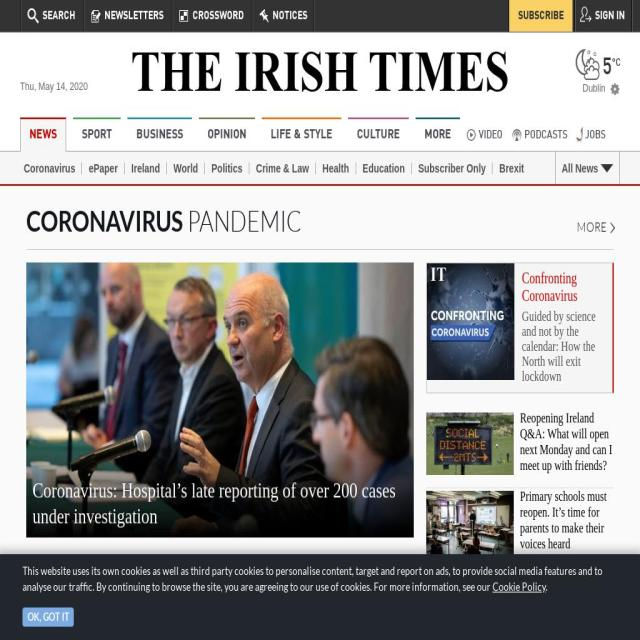button: (26, 262, 413, 538), (25, 566, 213, 640), (225, 566, 413, 640), (426, 488, 614, 557), (426, 570, 614, 638), (426, 410, 614, 475), (516, 264, 612, 384), (84, 0, 170, 32), (261, 119, 341, 152), (172, 0, 250, 32), (127, 119, 192, 152), (554, 152, 620, 184), (508, 0, 572, 32), (251, 0, 314, 32), (20, 0, 82, 32), (348, 119, 408, 152), (512, 119, 572, 152), (198, 119, 255, 152), (574, 0, 631, 32), (72, 119, 120, 152), (20, 119, 66, 152), (415, 119, 460, 152), (466, 119, 507, 152), (518, 52, 565, 76), (22, 608, 74, 626), (583, 119, 610, 152), (418, 163, 493, 174), (577, 216, 614, 236), (23, 163, 83, 174), (256, 163, 316, 174), (362, 163, 412, 174), (211, 163, 250, 174), (88, 163, 125, 174), (131, 163, 167, 174), (322, 163, 356, 174), (173, 163, 205, 174), (498, 163, 530, 174)
heading: (26, 202, 183, 238), (182, 202, 302, 238)
image: (26, 262, 413, 538), (25, 566, 213, 640), (225, 566, 413, 640), (426, 263, 514, 380), (426, 491, 514, 557), (426, 572, 514, 638), (426, 413, 514, 475), (574, 49, 596, 81), (582, 58, 600, 84), (27, 8, 39, 24), (259, 8, 269, 24), (610, 83, 621, 97), (90, 9, 100, 23), (179, 9, 189, 23), (466, 128, 476, 141), (512, 128, 521, 141), (432, 621, 439, 632)
link: (492, 579, 546, 593)
text: (26, 436, 413, 537), (22, 564, 602, 594), (25, 585, 214, 640), (225, 585, 414, 640), (516, 309, 612, 384), (520, 411, 612, 472), (519, 489, 607, 551), (520, 571, 608, 617), (516, 263, 612, 305), (19, 80, 122, 92), (104, 7, 164, 26), (192, 7, 244, 26), (581, 7, 625, 26), (272, 7, 307, 26), (42, 7, 76, 26), (524, 129, 568, 141), (561, 162, 598, 175), (478, 129, 503, 141), (582, 82, 606, 94), (602, 57, 612, 80), (611, 57, 621, 68), (546, 579, 548, 593)
